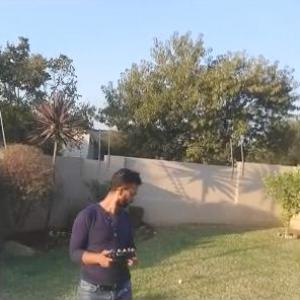follow: (64, 162, 146, 299)
